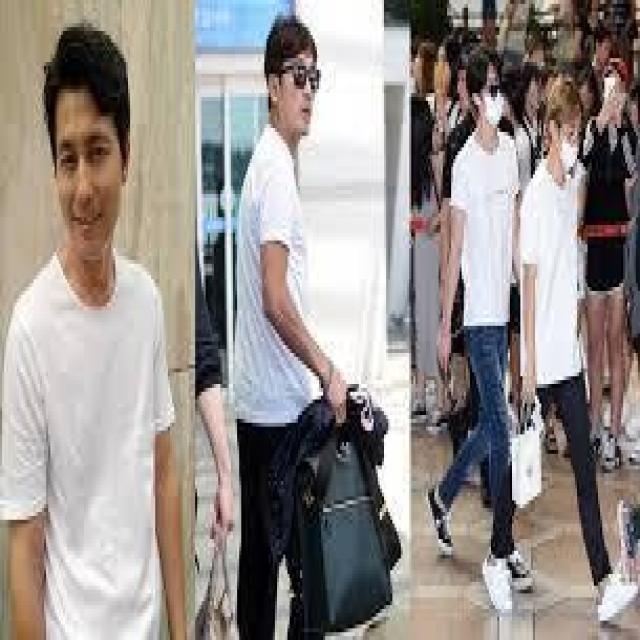Tshirt: (0, 240, 183, 640), (219, 114, 335, 437), (518, 149, 586, 417), (447, 132, 520, 330)
pants: (489, 366, 621, 584), (434, 306, 524, 536)
